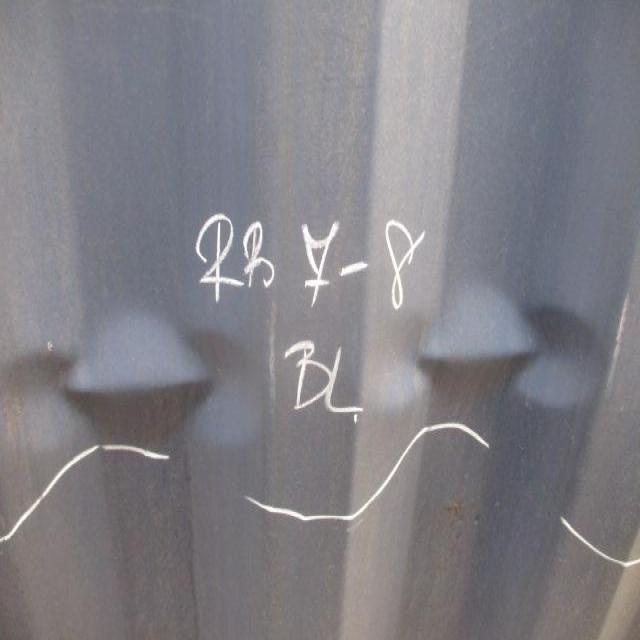dent: (2, 283, 267, 479), (376, 285, 615, 434)
